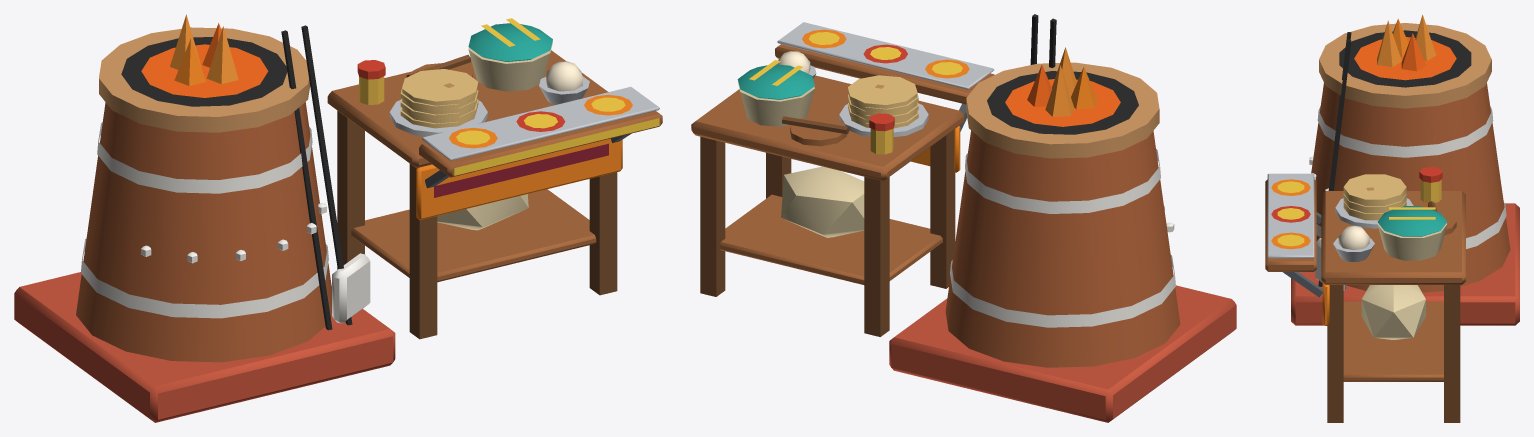
Rendered from tandoor_station.glb.
3 views of the same model, side by side, from view 1: azimuth 30°, elevation 25°; view 2: azimuth 150°, elevation 25°; view 3: azimuth 270°, elevation 25° (orthographic). The views are drawn at different scales.
Visible parts, largest first — view 1: tandoor_station; view 2: tandoor_station; view 3: tandoor_station.
Boxes of the visible parts, box(x1,y1,x2,y2) form: tandoor_station: box(14, 14, 662, 422); tandoor_station: box(691, 14, 1236, 422); tandoor_station: box(1265, 14, 1519, 422).
Bounding box in the file's own units: 1.98 × 1.25 × 1.09.
1 material, 1 textured.
